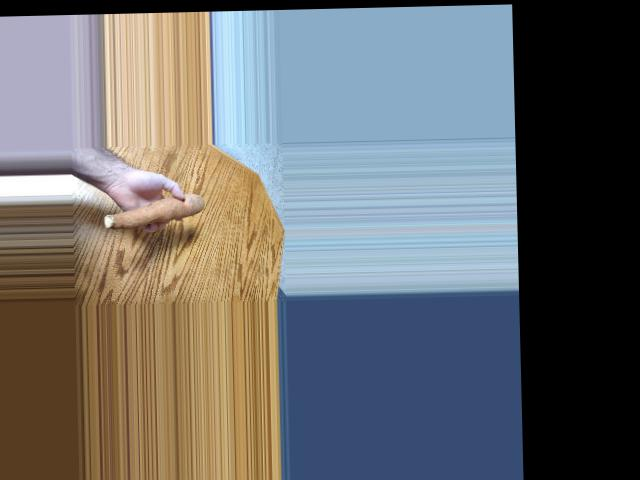sweet_potato: (107, 197, 211, 229)
